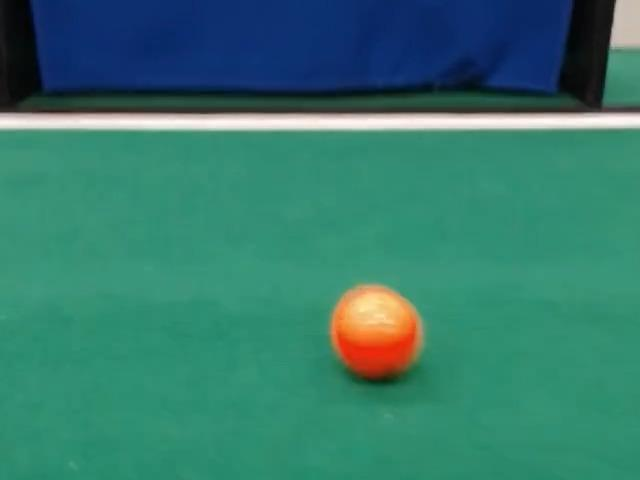Ball: (330, 285, 423, 380)
